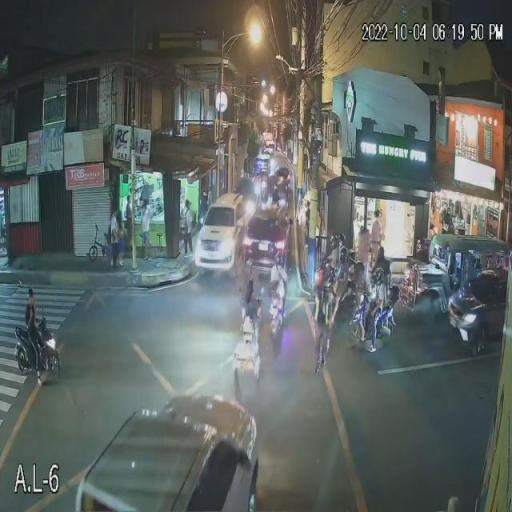helmet: (246, 278, 256, 294), (375, 268, 385, 284), (274, 251, 284, 266), (330, 237, 340, 249), (338, 234, 346, 247)
motorcycle: (14, 318, 62, 382), (350, 294, 395, 350), (234, 313, 264, 376), (311, 266, 339, 330), (266, 288, 287, 340)
rider: (365, 258, 386, 352), (329, 248, 352, 328), (24, 287, 48, 361), (239, 274, 265, 326), (264, 253, 287, 309), (319, 237, 339, 297)
